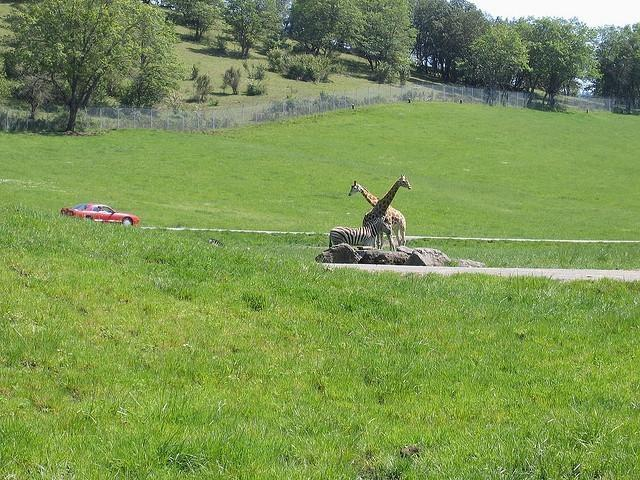car: (60, 204, 140, 226)
